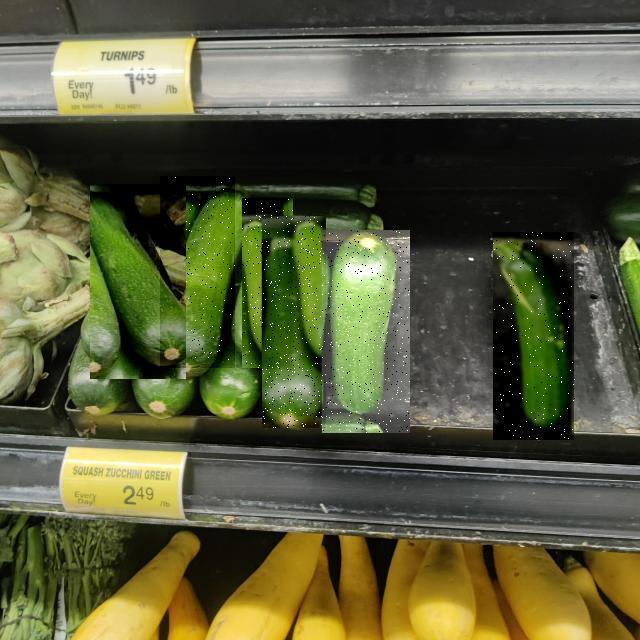Zuccini: (91, 184, 187, 379), (323, 230, 411, 433), (494, 233, 576, 441), (160, 176, 235, 368), (263, 216, 327, 428), (242, 199, 293, 369)
